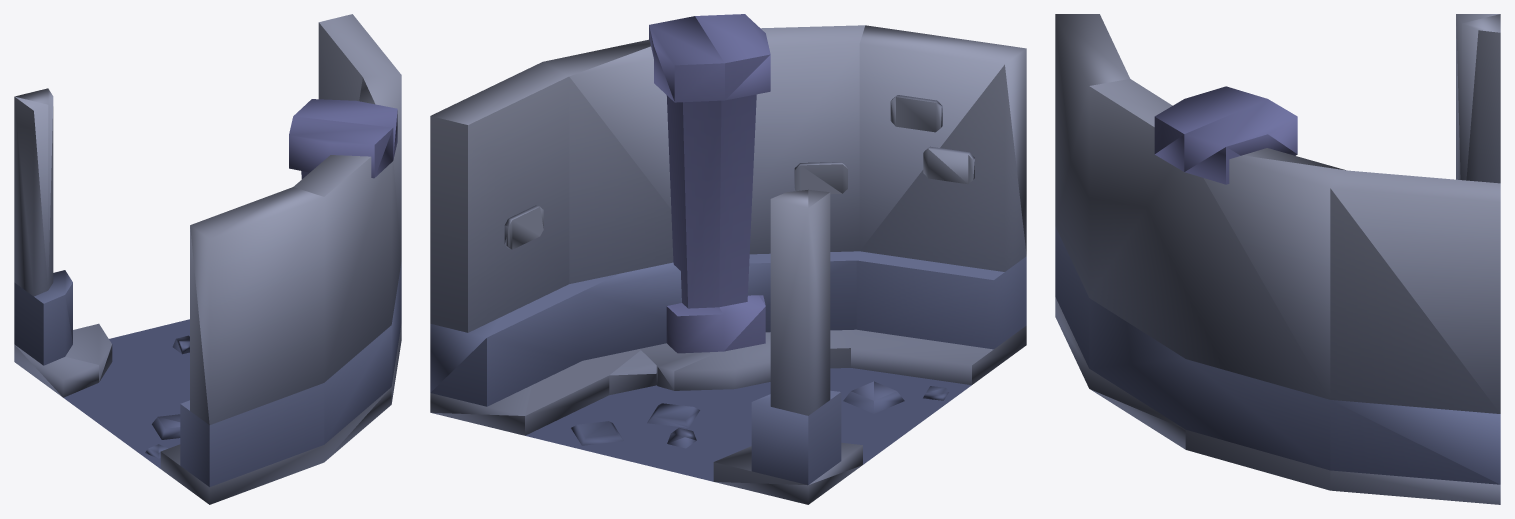
Rendered from corridor-corner_lev2.glb.
3 views of the same model, side by side, from view 1: azimuth 30°, elevation 25°; view 2: azimuth 150°, elevation 25°; view 3: azimuth 270°, elevation 25° (orthographic). The views are drawn at different scales.
Parts seen in each view (by area): view 1: corridor-corner_lev2; view 2: corridor-corner_lev2; view 3: corridor-corner_lev2.
Boxes of the visible parts, <box> form: corridor-corner_lev2: <box>14,14,401,504</box>; corridor-corner_lev2: <box>430,14,1026,504</box>; corridor-corner_lev2: <box>1055,14,1500,504</box>.
Bounding box in the file's own units: 4 × 3.13 × 4.
1 material, 1 textured.
